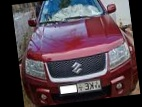car: (12, 0, 139, 107)
